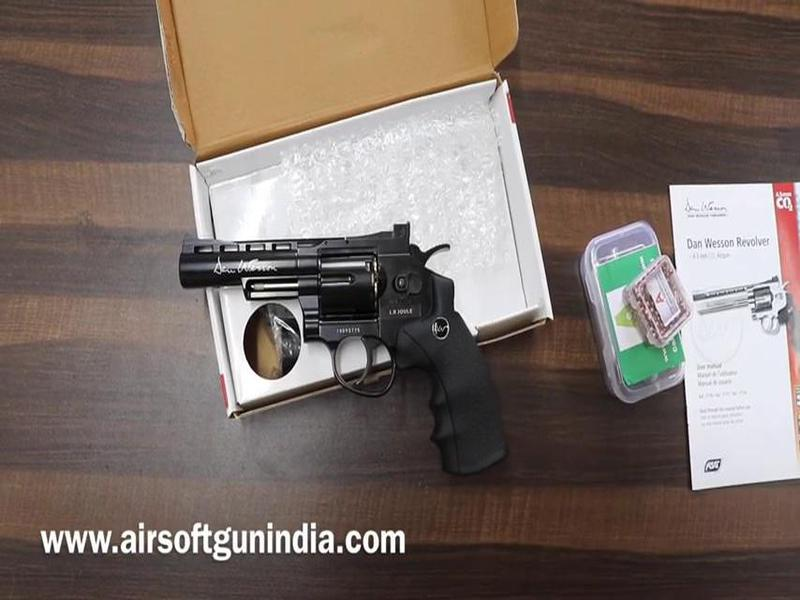Revolver: (180, 209, 530, 490)
